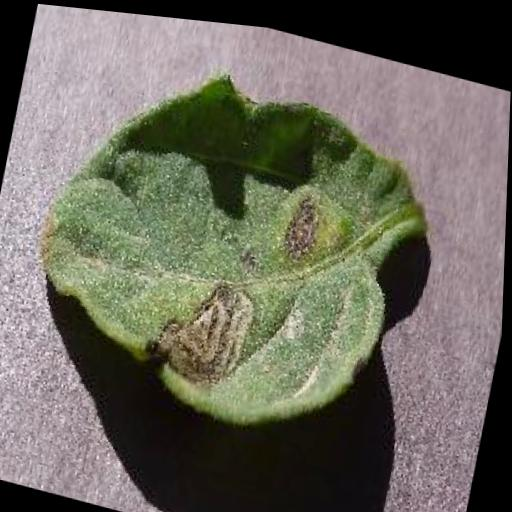Early Blight: (11, 31, 447, 453)
